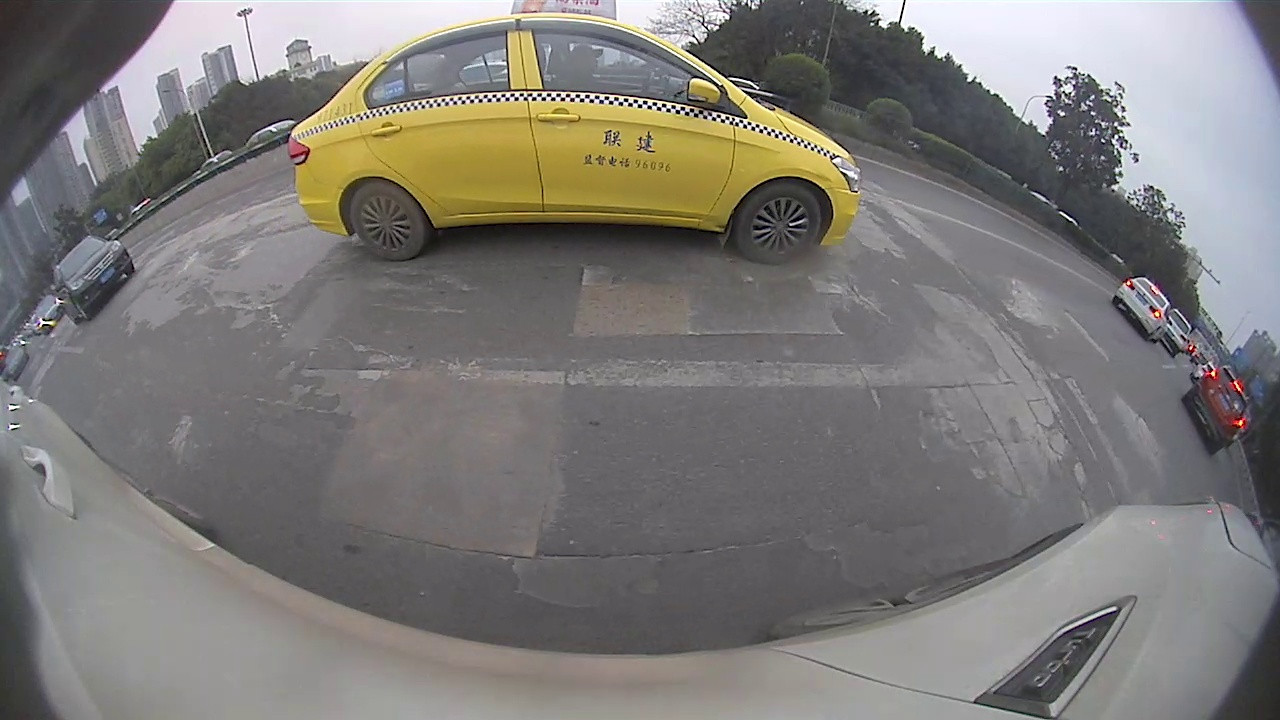car: (290, 2, 860, 263), (52, 237, 133, 323), (1183, 365, 1251, 454), (1112, 276, 1171, 342), (1160, 309, 1193, 357), (32, 293, 66, 335)
front: (737, 182, 823, 264)
rear: (348, 180, 427, 262)
